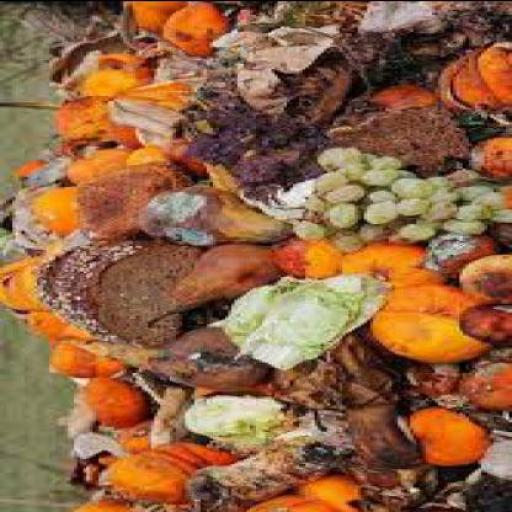biodegradable: (74, 2, 509, 511), (293, 156, 509, 246), (172, 73, 315, 208), (54, 238, 198, 350), (184, 449, 440, 511), (0, 231, 164, 309), (309, 332, 397, 475), (71, 344, 167, 466), (358, 281, 496, 364), (170, 318, 314, 387), (68, 155, 184, 239), (232, 39, 348, 120), (84, 440, 231, 502), (154, 244, 268, 322), (141, 187, 293, 243), (424, 415, 510, 511), (331, 108, 478, 162), (53, 322, 154, 392), (201, 159, 277, 240), (175, 392, 296, 442), (12, 163, 84, 246), (343, 1, 431, 68), (340, 247, 456, 296), (53, 96, 141, 156), (437, 47, 509, 119), (112, 79, 212, 130), (151, 2, 240, 58), (59, 146, 160, 192), (401, 408, 478, 466), (262, 234, 348, 284), (68, 58, 148, 106), (460, 115, 509, 183), (435, 2, 509, 44), (453, 304, 509, 346), (457, 254, 508, 300), (355, 79, 435, 108), (426, 236, 490, 272), (462, 362, 509, 410), (121, 1, 176, 41), (410, 362, 460, 404), (318, 204, 364, 226), (450, 203, 500, 223), (472, 347, 509, 371), (358, 168, 398, 186), (324, 188, 360, 205), (308, 176, 346, 191), (389, 201, 428, 215), (419, 205, 454, 220), (469, 194, 500, 210), (392, 184, 423, 200), (410, 213, 448, 226), (419, 176, 454, 190), (456, 186, 490, 200), (364, 156, 398, 169), (355, 224, 379, 242), (362, 208, 388, 223), (392, 228, 429, 238), (484, 210, 509, 224), (422, 194, 454, 204), (334, 164, 360, 176), (444, 223, 478, 231), (364, 195, 388, 203)
